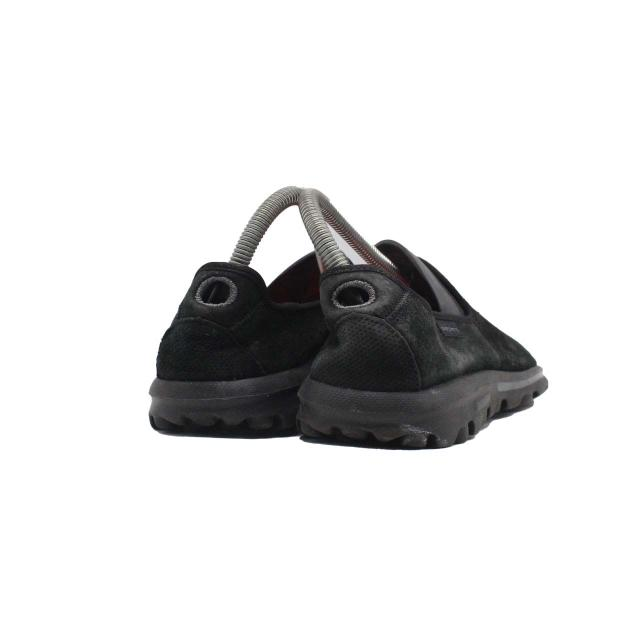heel: (157, 264, 312, 381), (311, 265, 454, 387)
midsole: (296, 363, 548, 448), (147, 362, 312, 438)
